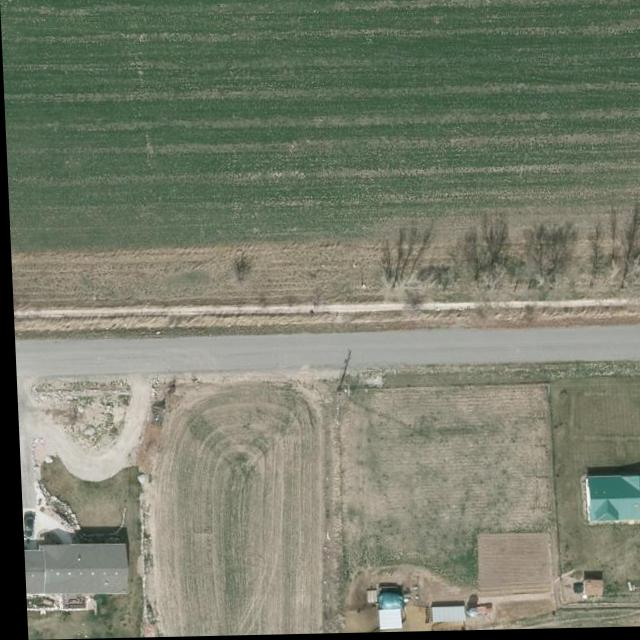vehicle: (18, 512, 32, 540)
